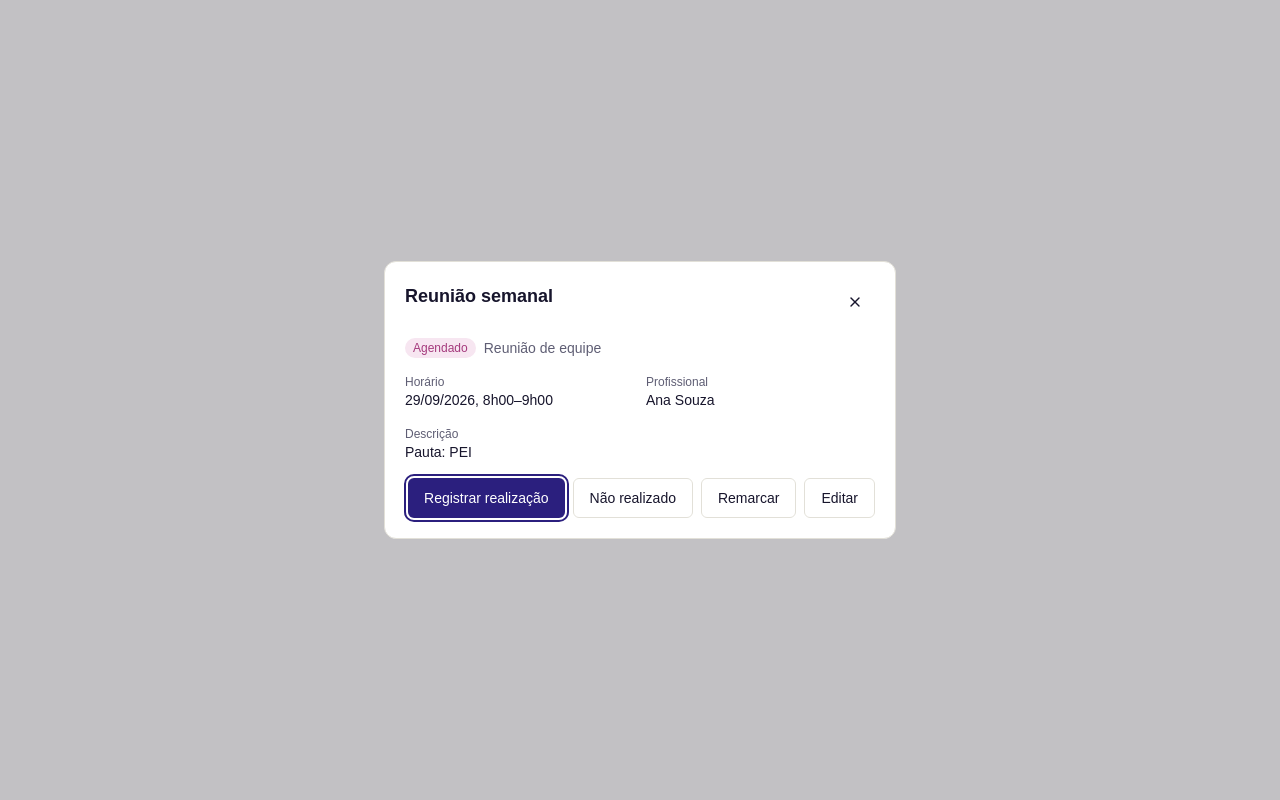
it: DetalheCompromisso › editar_preenche_a_descricao_atual
What coordinates should you click on to do the following:
click the button "Editar"
I would click on:
 (840, 498)
Its box is x1=804 y1=478 x2=875 y2=518.
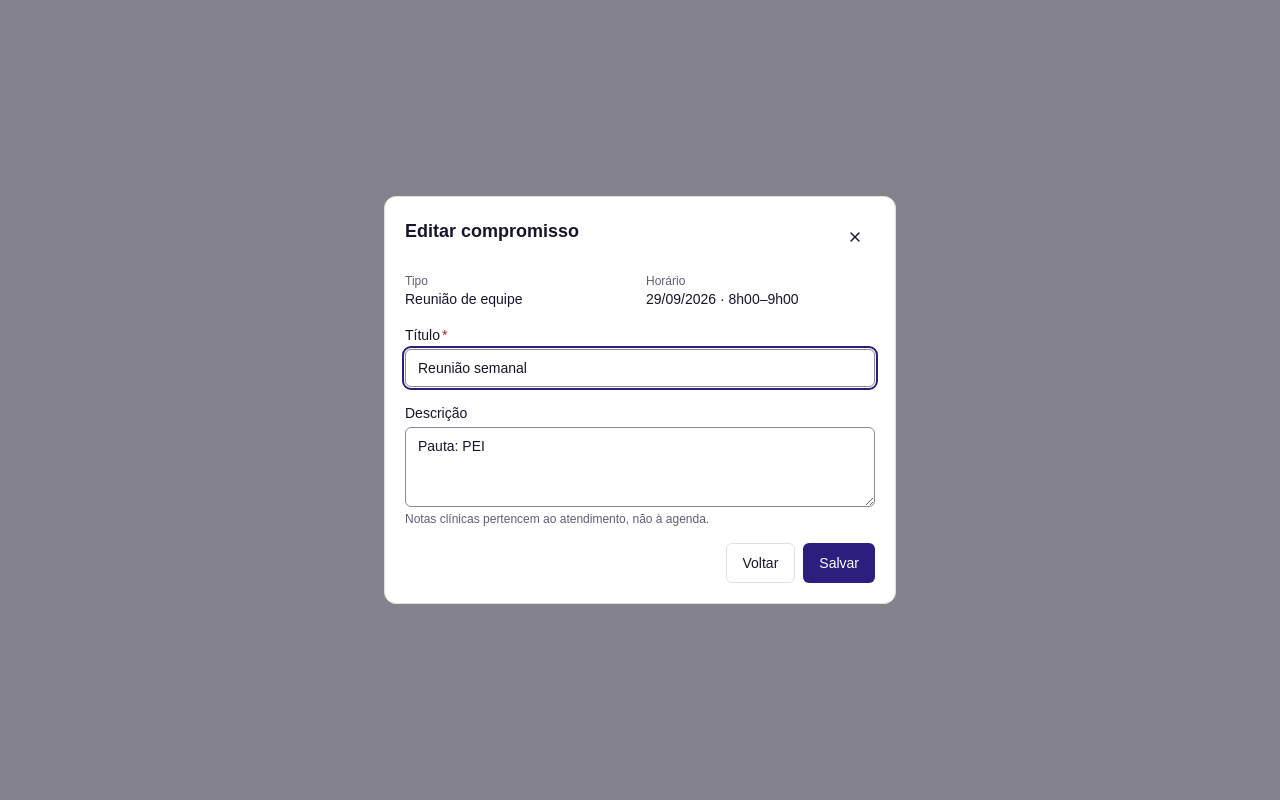
Now the text box labelled "Descrição" holds "Pauta: PEI", box x1=405 y1=427 x2=875 y2=507
